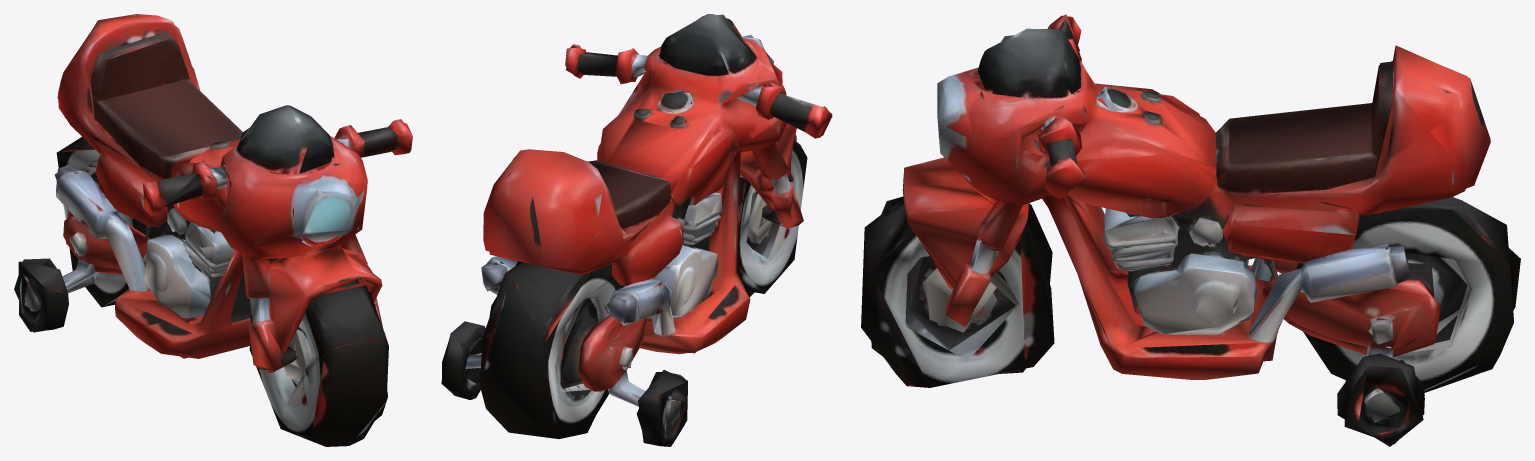
Rendered from veh_motorcycle.glb.
The picture shows the model from 3 angles, left to right: view 1: azimuth 30°, elevation 25°; view 2: azimuth 150°, elevation 25°; view 3: azimuth 270°, elevation 25°; orthographic projection. The views are drawn at different scales.
Parts seen in each view (by area): view 1: geometry_0; view 2: geometry_0; view 3: geometry_0.
Part boxes in pixels (bbox=[...]): geometry_0: bbox=[14, 14, 412, 446]; geometry_0: bbox=[441, 14, 832, 446]; geometry_0: bbox=[861, 14, 1520, 446].
Bounding box in the file's own units: 1.5 × 1.67 × 2.8.
Materials: 1 (1 with a texture image).
